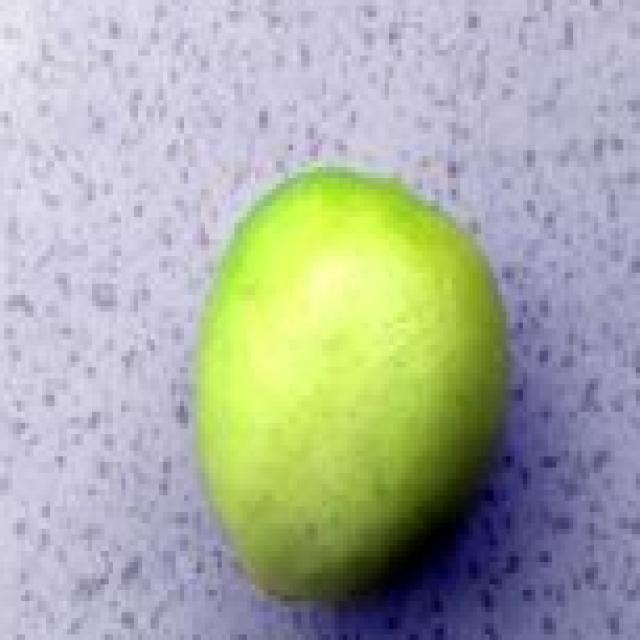Good_Lime-10-21-days: (192, 167, 510, 607)
